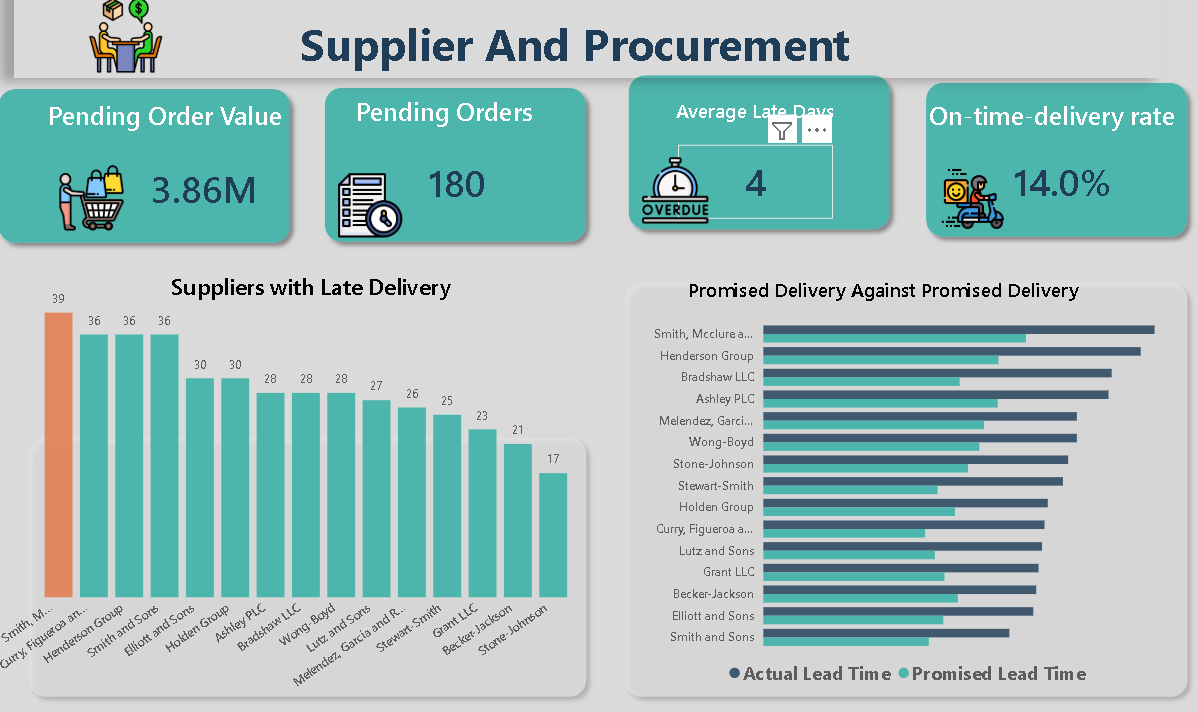

This screenshot's page, from the dashboard's own definition file:
{"tool":"powerbi","page":{"name":"Supplier and Procurement","canvas":[1280,720],"ordinal":3},"visuals":[{"type":"shape","box":[1007.4,94.1,270,166.5],"z":0},{"type":"actionButton","title":"githud","box":[7.9,504.3,72.4,73.9],"z":0,"group":"g1"},{"type":"shape","box":[141.2,436.7,556.2,267.8],"z":1000},{"type":"actionButton","title":"LinkIn","box":[4.3,617,72.4,73.9],"z":1000,"group":"g1"},{"type":"actionButton","title":"Menu","box":[9.8,20.2,64,82.4],"z":2000,"group":"g1"},{"type":"shape","box":[716.6,287.1,561,417.4],"z":2000},{"type":"shape","box":[720.2,86.9,270.2,166.5],"z":3000},{"type":"shape","box":[112.8,99.8,299.3,166.3],"z":4000},{"type":"shape","box":[426.7,98.9,270,166.5],"z":5000},{"type":"textbox","box":[720.2,94.1,263,63.9],"z":6000},{"type":"textbox","box":[1007.4,94.1,260.6,63.9],"z":7000},{"type":"card","fields":{"Values":["Purchase_Order.On-Time Delivery Rate"]},"box":[1073.7,162.9,149.6,71.2],"z":8000},{"type":"columnChart","fields":{"Y":["Purchase_Order.Late Deliveries"],"Category":["Supplier.Supplier_Name"]},"box":[112.8,287.8,577,416.5],"z":9000},{"type":"textbox","box":[136.3,13.3,1107.5,85.7],"z":10000},{"type":"card","fields":{"Values":["Purchase_Order.Avg Days Late"]},"box":[776.9,162.9,149.6,71.2],"z":11000},{"type":"image","box":[170.5,182.5,82.2,64.1],"z":12000},{"type":"card","fields":{"Values":["Purchase_Order.Pending Orders"]},"box":[489.8,164.1,149.6,71.2],"z":13000},{"type":"textbox","box":[427.1,108.6,248.5,49.5],"z":14000},{"type":"card","fields":{"Values":["Purchase_Order.Pending Order Value"]},"box":[244.9,170.1,149.6,71.2],"z":15000},{"type":"textbox","box":[152,94.1,259.4,63.9],"z":16000},{"type":"textbox","box":[743.2,266.6,469.3,60.3],"z":17000},{"type":"textbox","box":[177.3,260.6,491,60.3],"z":18000},{"type":"image","box":[147.2,20.5,194.2,73.6],"z":19000},{"type":"clusteredBarChart","fields":{"Y":["Purchase_Order.Actual Lead Time","Purchase_Order.Promised Lead Time"],"Category":["Supplier.Supplier_Name"]},"box":[733.5,316.1,534.5,377.6],"z":20000},{"type":"image","box":[439.1,189.4,82,63.9],"z":21000},{"type":"image","box":[733.5,174.9,82,63.9],"z":22000},{"type":"image","box":[1020.6,182.2,82,63.9],"z":23000},{"type":"shape","title":"Container","box":[0,0,96.9,720.1],"z":24000},{"type":"group","id":"g1","title":"Menu bar","box":[4.3,20.2,76.6,671],"z":30000}]}

Visuals, with their boxes on the page's 1280x720 design canvas (x1, y1, x2, y2). These are canvas units, not pixel positions in the 1198x712 screenshot, which may show the page scaled, cropped or inside an application window:
shape: detection(1007, 94, 1277, 261)
"githud" actionButton: detection(8, 504, 80, 578)
shape: detection(141, 437, 697, 704)
"LinkIn" actionButton: detection(4, 617, 77, 691)
"Menu" actionButton: detection(10, 20, 74, 103)
shape: detection(717, 287, 1278, 704)
shape: detection(720, 87, 990, 253)
shape: detection(113, 100, 412, 266)
shape: detection(427, 99, 697, 265)
textbox: detection(720, 94, 983, 158)
textbox: detection(1007, 94, 1268, 158)
card - Purchase_Order.On-Time Delivery Rate: detection(1074, 163, 1223, 234)
columnChart - Purchase_Order.Late Deliveries x Supplier.Supplier_Name: detection(113, 288, 690, 704)
textbox: detection(136, 13, 1244, 99)
card - Purchase_Order.Avg Days Late: detection(777, 163, 926, 234)
image: detection(170, 182, 253, 247)
card - Purchase_Order.Pending Orders: detection(490, 164, 639, 235)
textbox: detection(427, 109, 676, 158)
card - Purchase_Order.Pending Order Value: detection(245, 170, 394, 241)
textbox: detection(152, 94, 411, 158)
textbox: detection(743, 267, 1212, 327)
textbox: detection(177, 261, 668, 321)
image: detection(147, 20, 341, 94)
clusteredBarChart - Purchase_Order.Actual Lead Time x Purchase_Order.Promised Lead Time: detection(734, 316, 1268, 694)
image: detection(439, 189, 521, 253)
image: detection(734, 175, 816, 239)
image: detection(1021, 182, 1103, 246)
"Container" shape: detection(0, 0, 97, 720)
"Menu bar" group: detection(4, 20, 81, 691)
